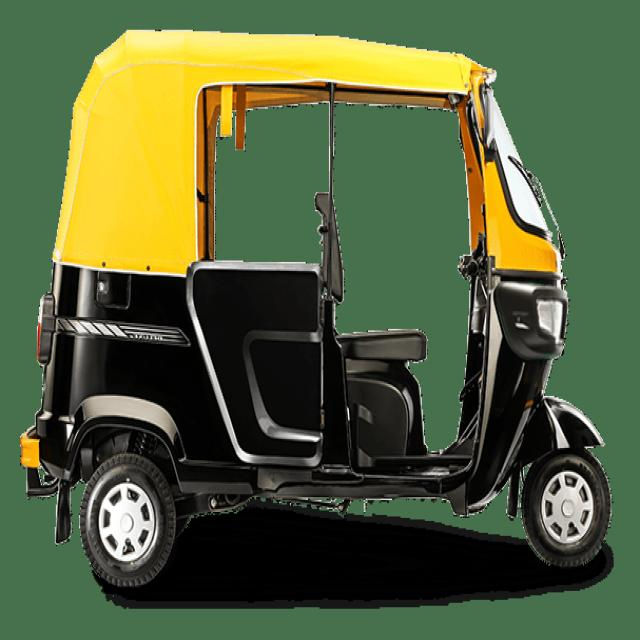autorickshaw: (21, 30, 611, 586)
